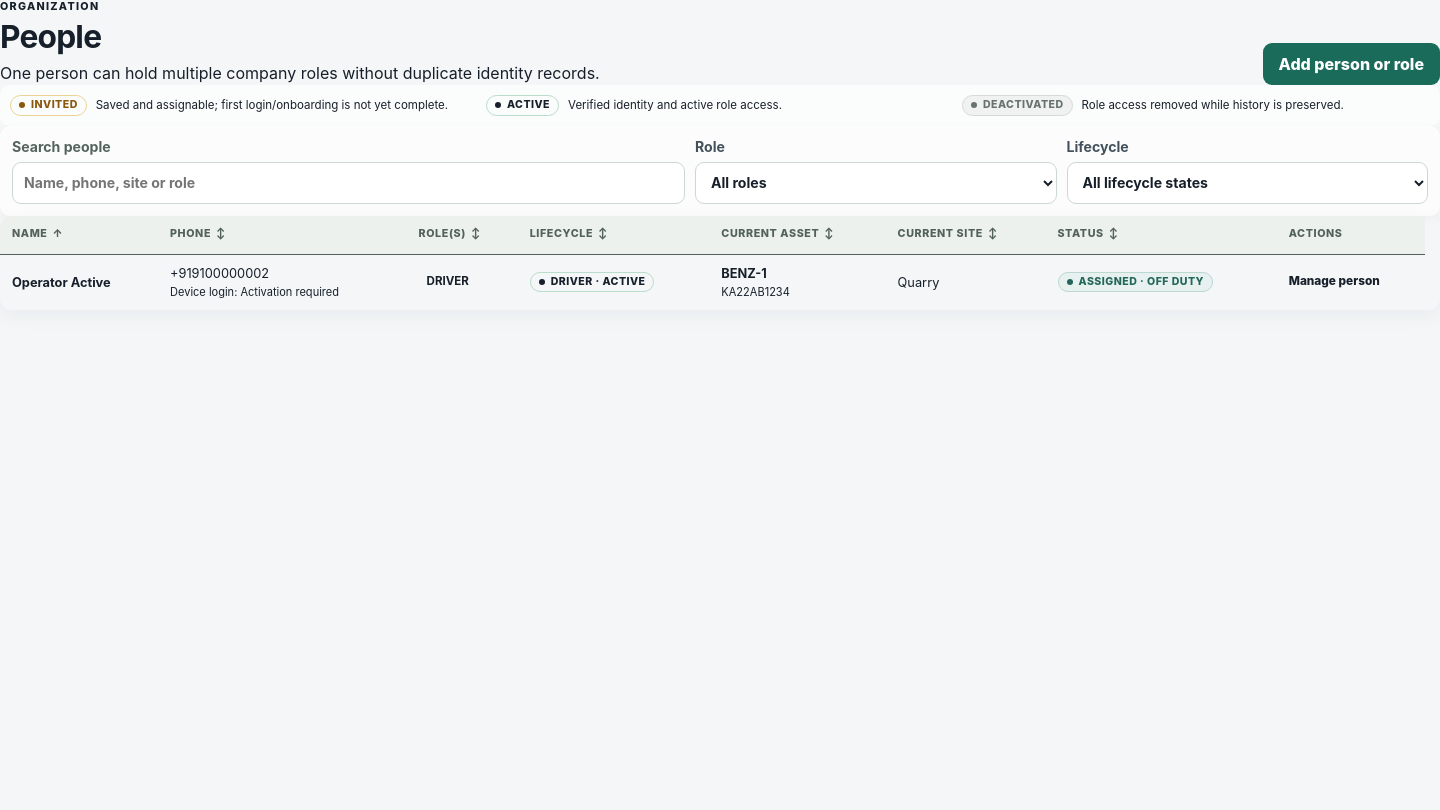
Owner management panels › updates an unlinked phone without confirmation and shows duplicate errors
Expected: the row "Operator Active" shows "Device login: Activation required", [0,255,1425,310]
Click the button "Manage person": (1334, 282) [1289,268,1380,296]
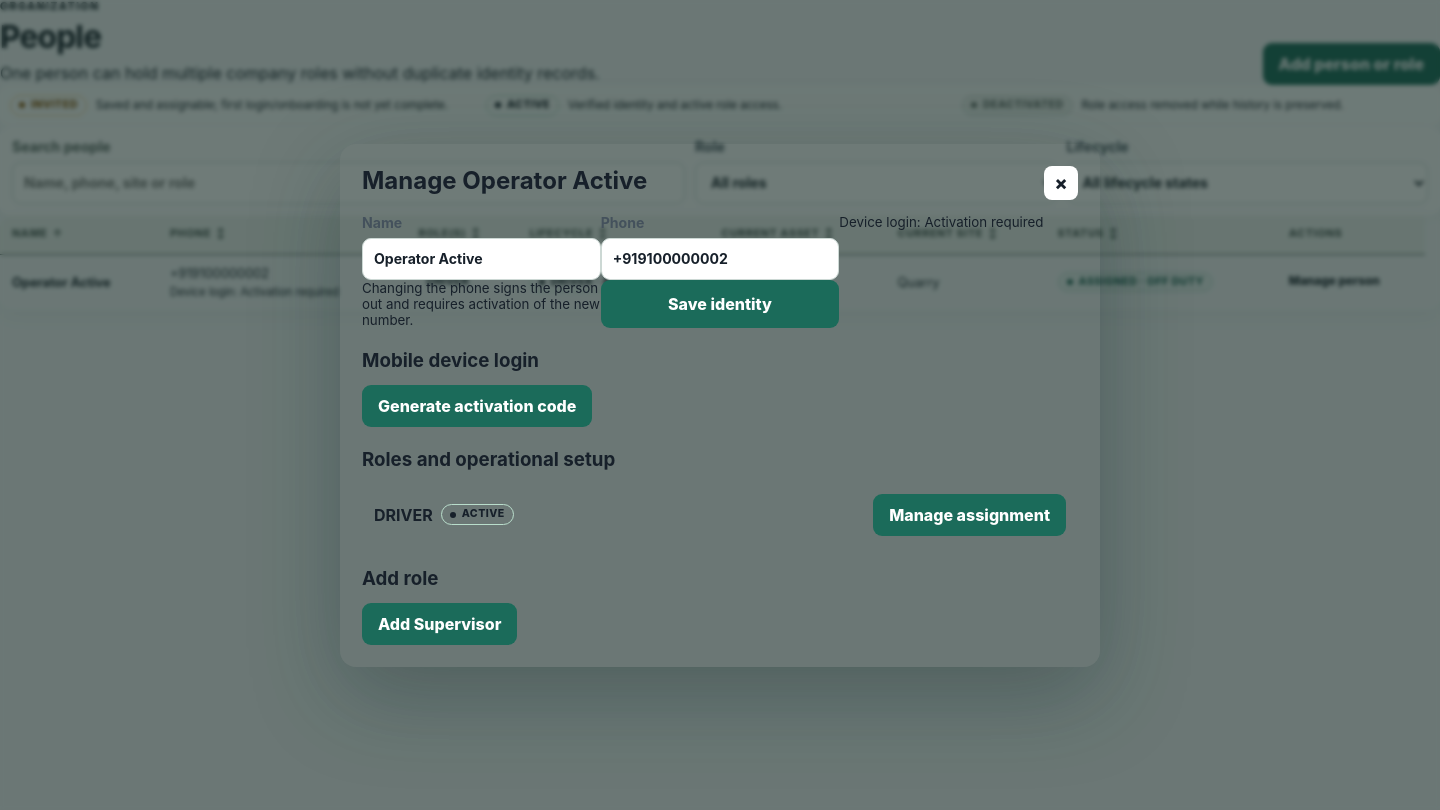
Replace the text in the field named "Edit person phone" with "+919100000099": (720, 258) [601,238,839,280]
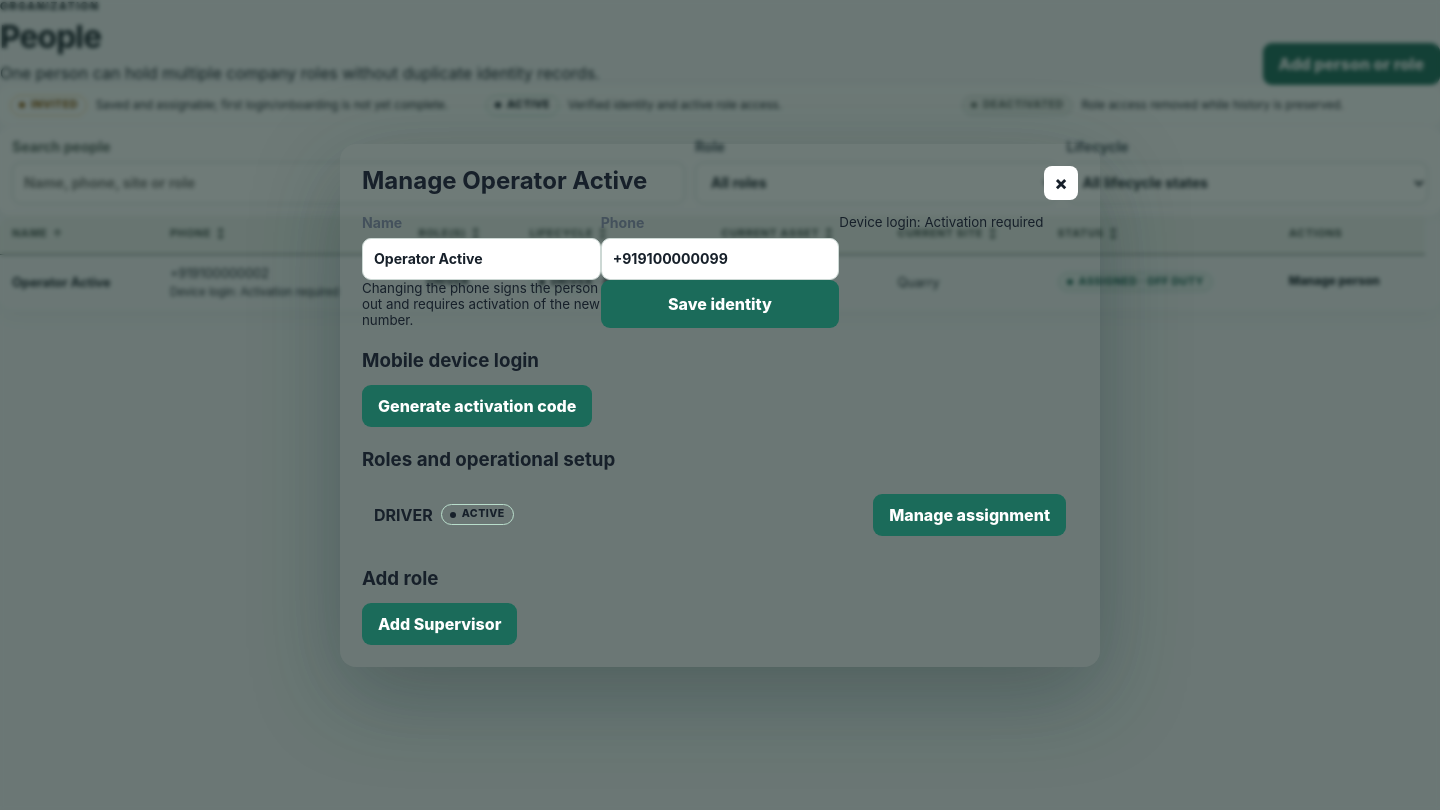
Click the button "Save identity": (720, 304) [601,280,839,328]
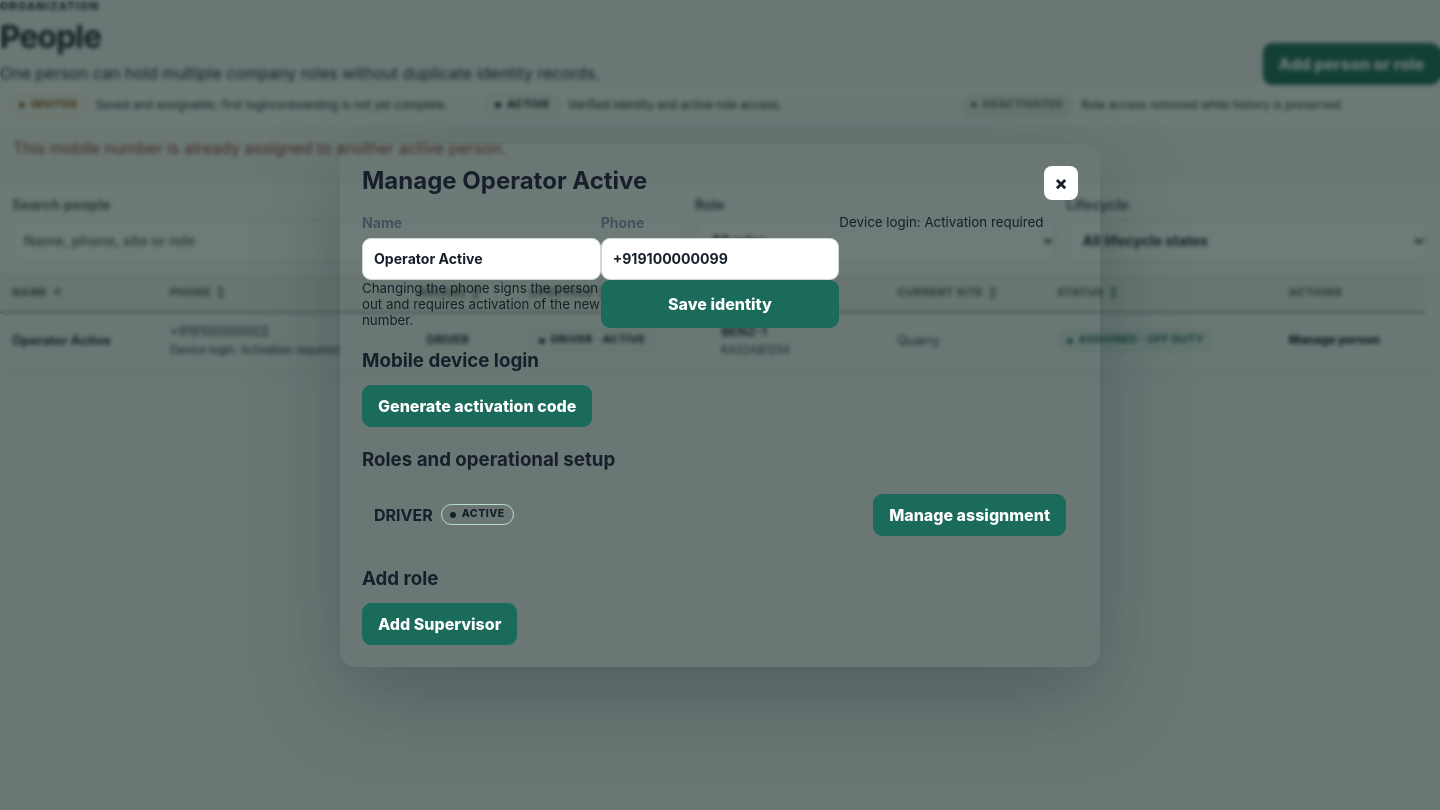
Result: the text "This mobile number is already assigned to another active person." is shown at [13,138,506,158]
